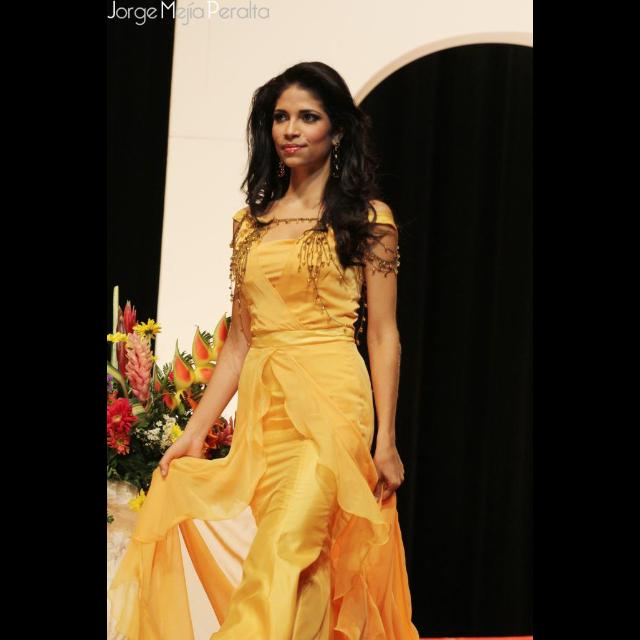Flower: (114, 316, 156, 400), (107, 400, 137, 430), (134, 316, 162, 342), (107, 432, 131, 454), (109, 330, 131, 342)
